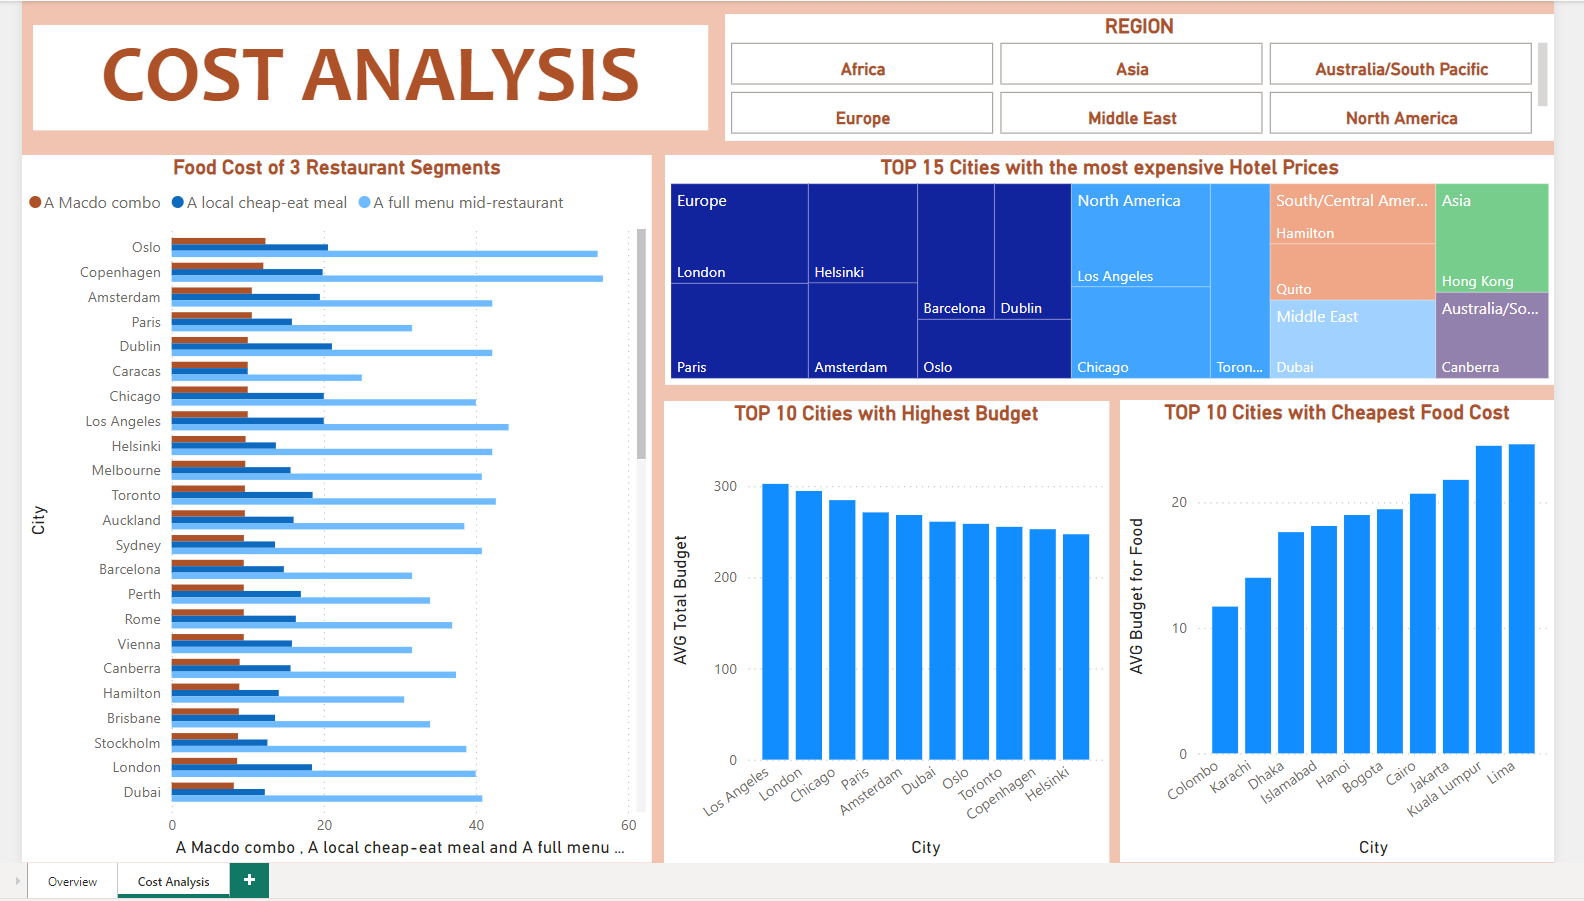

The dashboard page shown, as its layout file describes it:
{"tool":"powerbi","page":{"name":"Cost Analysis","canvas":[1280,720],"ordinal":1},"visuals":[{"type":"advancedSlicerVisual","title":"REGION","fields":{"Values":["dashboard.Region"]},"box":[587.5,10.7,692.5,106],"z":0},{"type":"textbox","title":"COST ANALYSIS","box":[9.5,19.8,564.1,88],"z":1000},{"type":"clusteredBarChart","title":"Food Cost of 3 Restaurant Segments","fields":{"Category":["dashboard.City"],"Y":["Avg(dashboard.combo_meal_mcdo)","Avg(dashboard.meal_inexpensive_res)","Avg(dashboard.Res_3course1P)"]},"box":[0,128.4,526.2,591.4],"z":2000},{"type":"columnChart","title":"TOP 10 Cities with Cheapest Food Cost","fields":{"Category":["dashboard.City"],"Y":["Avg(dashboard.budget_food_avg)"]},"box":[917.2,333.6,362.8,386.1],"z":3000},{"type":"columnChart","title":"TOP 10 Cities with Highest Budget","fields":{"Category":["dashboard.City"],"Y":["Avg(dashboard.budget_total_avg)"]},"box":[536.5,333.8,371.8,385.6],"z":4000},{"type":"treemap","title":"TOP 15 Cities with the most expensive Hotel Prices","fields":{"Group":["dashboard.Region"],"Values":["Avg(dashboard.hotel_price_avg)"],"Details":["dashboard.City"]},"box":[536.9,128.4,743.1,191.6],"z":5000}]}

Visuals, with their boxes on the page's 1280x720 design canvas (x1, y1, x2, y2). These are canvas units, not pixel positions in the 1584x901 screenshot, which may show the page scaled, cropped or inside an application window:
"REGION" advancedSlicerVisual: (left=588, top=11, right=1280, bottom=117)
"COST ANALYSIS" textbox: (left=10, top=20, right=574, bottom=108)
"Food Cost of 3 Restaurant Segments" clusteredBarChart: (left=0, top=128, right=526, bottom=720)
"TOP 10 Cities with Cheapest Food Cost" columnChart: (left=917, top=334, right=1280, bottom=720)
"TOP 10 Cities with Highest Budget" columnChart: (left=536, top=334, right=908, bottom=719)
"TOP 15 Cities with the most expensive Hotel Prices" treemap: (left=537, top=128, right=1280, bottom=320)
